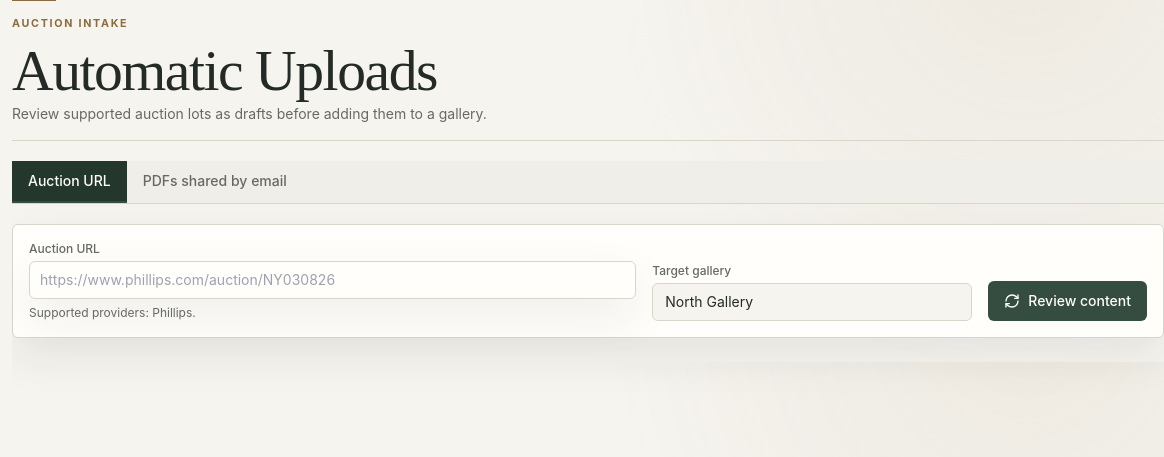
Test: AutomaticUploadsPage › rejects unsupported preflight URL https://user:secret@www.phillips.com/auction/NY030826
This screenshot has width=1164, height=457.
Type "https://user:secret@www.phillips.com/auction/NY030826" into the field labelled "Auction URL" at (333, 280), box [29,261,636,299]
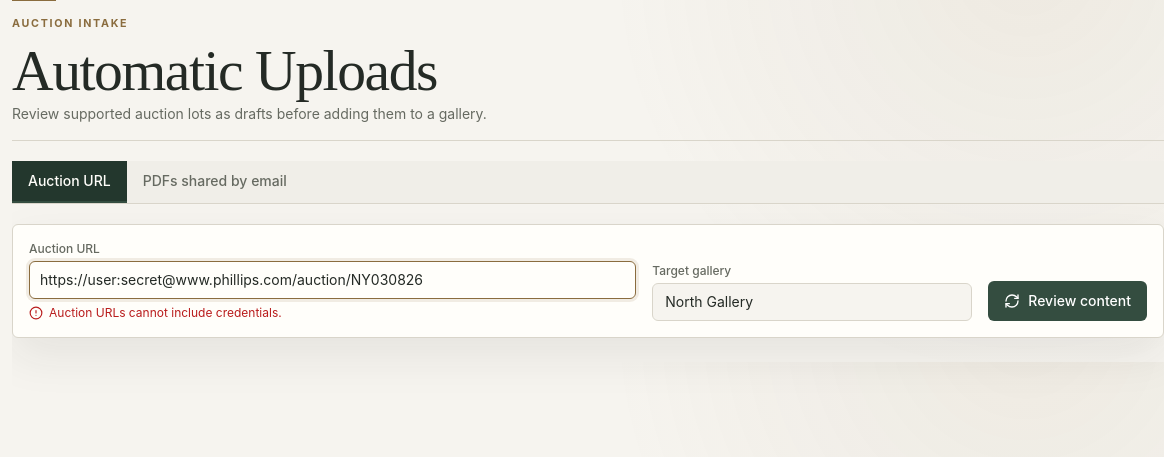
Expected: the button "Review content" is disabled, [988,281,1147,321]
Expected: the text "Auction URLs cannot include credentials." is shown, [29,305,282,320]
